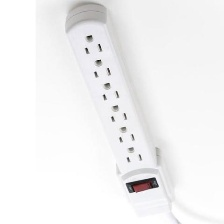three_eye_plug: (61, 0, 179, 219)
